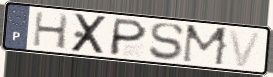H: (31, 10, 71, 51)
M: (180, 23, 231, 68)
P: (107, 17, 150, 58)
S: (148, 22, 187, 62)
V: (226, 27, 264, 69)
X: (69, 13, 111, 56)
